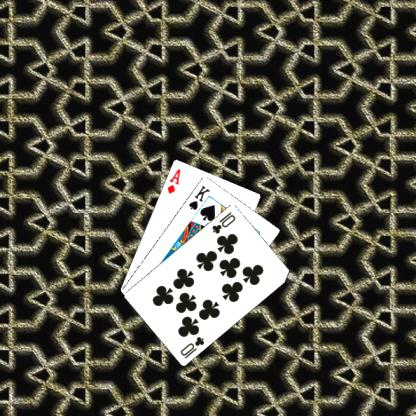10C: (178, 333, 206, 360), (209, 209, 237, 235)
AD: (164, 165, 182, 195)
KS: (186, 183, 211, 211)
